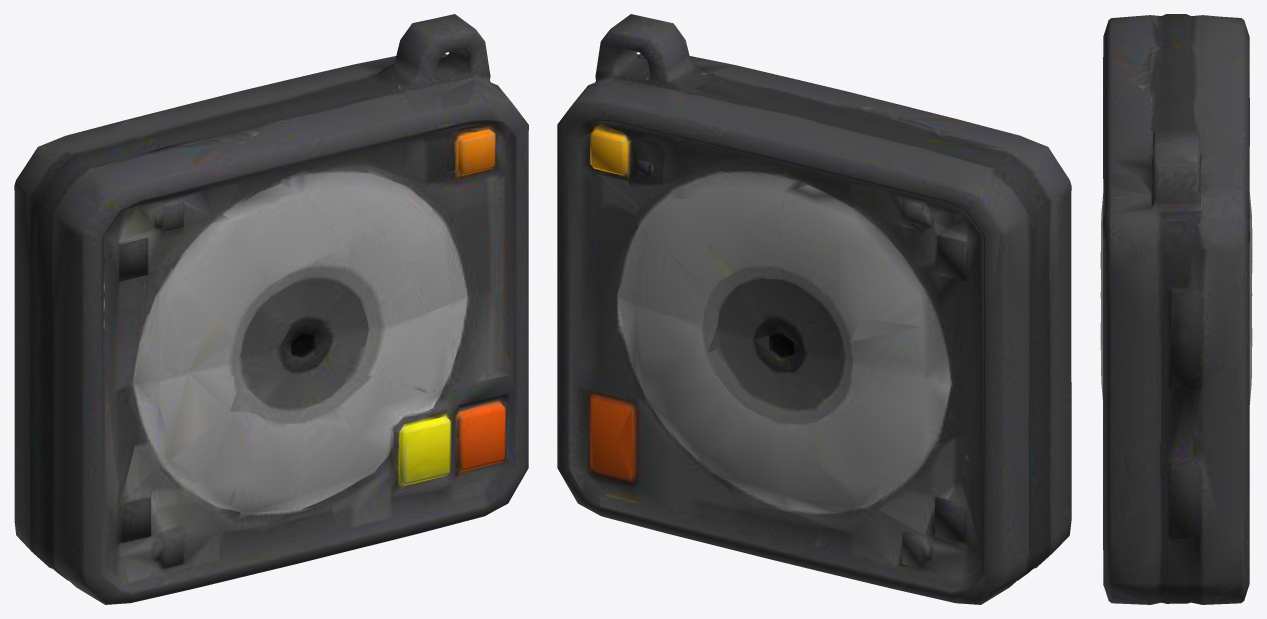
Rendered from milo_md.glb.
3 views of the same model, side by side, from view 1: azimuth 30°, elevation 25°; view 2: azimuth 150°, elevation 25°; view 3: azimuth 270°, elevation 25° (orthographic). The views are drawn at different scales.
Parts seen in each view (by area): view 1: node_0; view 2: node_0; view 3: node_0.
Boxes of the visible parts, box(x1,y1,x2,y2) form: node_0: box(14, 14, 528, 604); node_0: box(557, 14, 1071, 604); node_0: box(1100, 14, 1252, 604).
Size of the model in its own units: 0.9999 by 0.9789 by 0.2925.
Materials: 1 (1 with a texture image).
